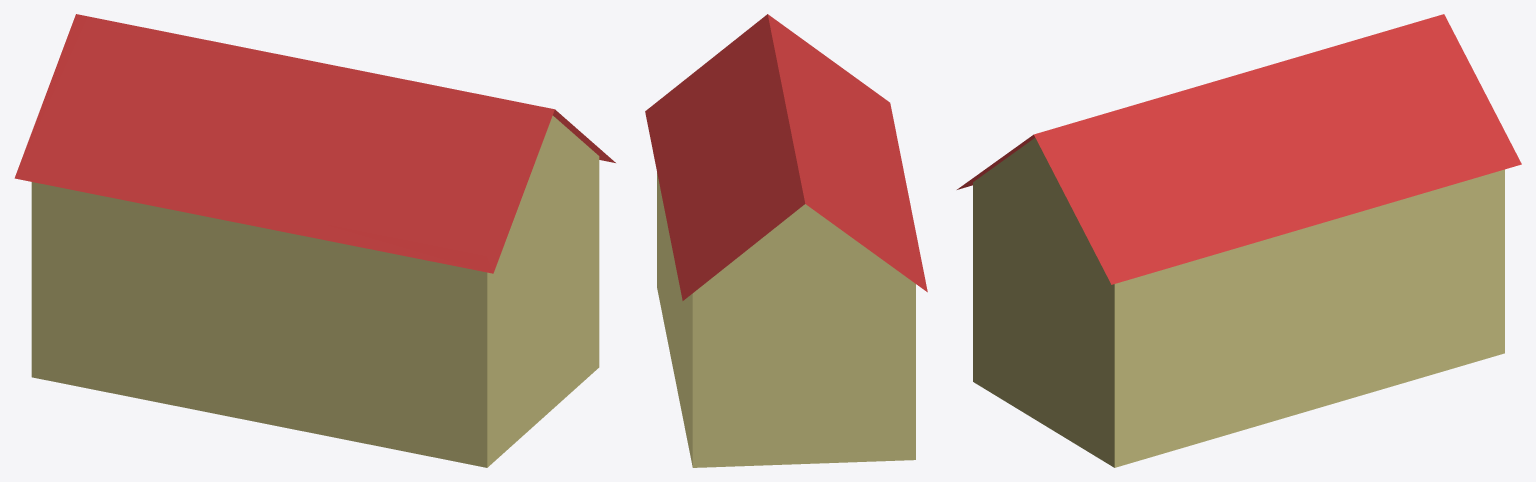
3 renders of one model, left to right at view 1: azimuth 30°, elevation 25°; view 2: azimuth 150°, elevation 25°; view 3: azimuth 270°, elevation 25°, orthographic. The views are drawn at different scales.
Bounding box in the file's own units: 20.84 × 23.17 × 13.25.
